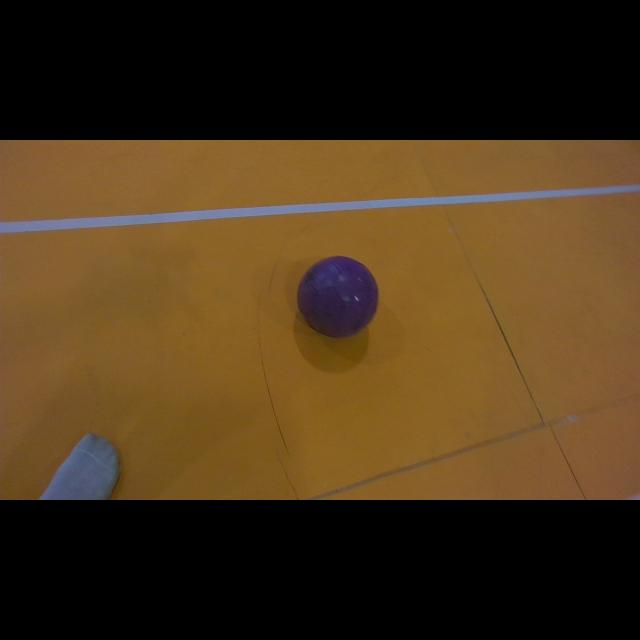P: (298, 256, 379, 338)
